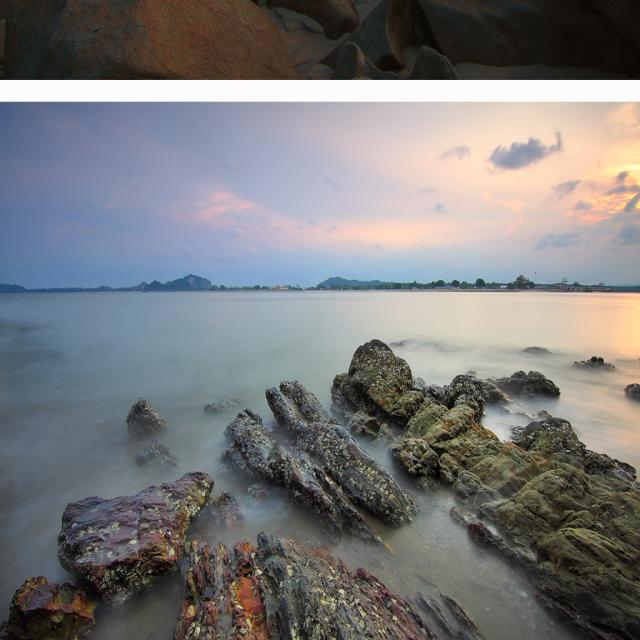reef: (91, 372, 625, 634)
